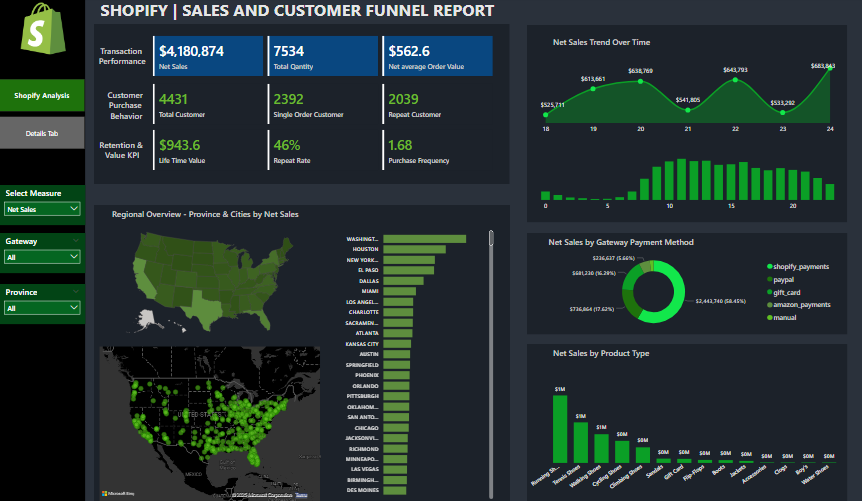

The dashboard page shown, as its layout file describes it:
{"tool":"powerbi","page":{"name":"Shopify Analysis","canvas":[1700,1000],"ordinal":0},"visuals":[{"type":"shape","box":[0,0,170,1000],"z":0},{"type":"textbox","box":[194.2,0,801.9,73.1],"z":1000},{"type":"shape","box":[186.5,55.8,819.2,315.4],"z":2000},{"type":"cardVisual","fields":{"Data":["shopify_sales.Net Sales","shopify_sales.Total Qantity","shopify_sales.Net average Order Value"]},"box":[298.1,73.1,680.8,90.4],"z":3000},{"type":"card","fields":{"Values":["shopify_sales.Transaction Perf"]},"box":[186.5,73.1,111.5,90.4],"z":4000},{"type":"cardVisual","fields":{"Data":["shopify_sales.Total Customer","shopify_sales.Single Order Customer","shopify_sales.Repeat Customer"]},"box":[298.1,167.3,680.8,90.4],"z":5000},{"type":"card","fields":{"Values":["shopify_sales.Customer Purchase Behavior"]},"box":[194.2,167.3,111.5,90.4],"z":6000},{"type":"cardVisual","fields":{"Data":["shopify_sales.Life Time Value","shopify_sales.Repeat Rate","shopify_sales.Purchase Frequency"]},"box":[298.1,257.7,680.8,90.4],"z":7000},{"type":"card","fields":{"Values":["shopify_sales.Retention & Value KPI"]},"box":[186.5,257.7,111.5,90.4],"z":8000},{"type":"shape","box":[186.5,411.3,818.9,584.9],"z":9000},{"type":"shapeMap","fields":{"Value":["shopify_sales.Net Sales"],"Category":["shopify_sales.Billing Address Province"]},"box":[193.8,449.7,444.2,230.3],"z":10000},{"type":"slicer","fields":{"Values":["Select Measure.Select Measure"]},"box":[0,371.1,170,78.6],"z":11000},{"type":"map","fields":{"Category":["shopify_sales.Location"]},"box":[193.8,685.5,444.2,314.4],"z":12000},{"type":"clusteredBarChart","fields":{"Y":["shopify_sales.Net Sales"],"Category":["shopify_sales.CITY"]},"box":[665.4,449.7,312.6,546.6],"z":13000},{"type":"card","fields":{"Values":["shopify_sales.Map Title"]},"box":[193.8,411.3,425.9,38.4],"z":14000},{"type":"shape","box":[1040.1,56.7,630.6,389.4],"z":15000},{"type":"areaChart","fields":{"Y":["shopify_sales.Net Sales"],"Category":["shopify_sales.Invoice Date.Variation.Date Hierarchy.Day"]},"box":[1060.2,118.8,590.4,160.9],"z":16000},{"type":"columnChart","fields":{"Y":["shopify_sales.Net Sales"],"Category":["shopify_sales.Hour"]},"box":[1060.2,285.2,590.4,146.2],"z":17000},{"type":"card","fields":{"Values":["shopify_sales.Trend Title"]},"box":[1060.2,73.1,250.4,38.4],"z":18000},{"type":"shape","box":[1040.1,466.1,630.6,200],"z":19000},{"type":"donutChart","fields":{"Y":["shopify_sales.Net Sales"],"Category":["shopify_sales.Gateway"]},"box":[1060.2,497.2,590.4,168.2],"z":20000},{"type":"card","fields":{"Values":["shopify_sales.Gateway Title"]},"box":[1060.2,466.1,327.2,38.4],"z":21000},{"type":"shape","box":[1040.1,685.5,630.6,310.8],"z":22000},{"type":"columnChart","fields":{"Y":["shopify_sales.Net Sales"],"Category":["shopify_sales.Product Type"]},"box":[1040.1,723.9,630.6,257.7],"z":23000},{"type":"card","fields":{"Values":["shopify_sales.Product Title"]},"box":[1045.6,685.5,279.7,38.4],"z":24000},{"type":"image","box":[12.8,7.3,146.2,111.5],"z":25000},{"type":"slicer","fields":{"Values":["shopify_sales.Gateway"]},"box":[0,466.1,170,78.6],"z":26000},{"type":"slicer","fields":{"Values":["shopify_sales.Billing Address Province"]},"box":[0,566.7,170,78.6],"z":27000},{"type":"pageNavigator","box":[0,163.4,169.3,139.8],"z":27001}]}

Visuals, with their boxes on the page's 1700x1000 design canvas (x1, y1, x2, y2). These are canvas units, not pixel positions in the 862x501 screenshot, which may show the page scaled, cropped or inside an application window:
shape: detection(0, 0, 170, 1000)
textbox: detection(194, 0, 996, 73)
shape: detection(186, 56, 1006, 371)
cardVisual - shopify_sales.Net Sales x shopify_sales.Total Qantity: detection(298, 73, 979, 164)
card - shopify_sales.Transaction Perf: detection(186, 73, 298, 164)
cardVisual - shopify_sales.Total Customer x shopify_sales.Single Order Customer: detection(298, 167, 979, 258)
card - shopify_sales.Customer Purchase Behavior: detection(194, 167, 306, 258)
cardVisual - shopify_sales.Life Time Value x shopify_sales.Repeat Rate: detection(298, 258, 979, 348)
card - shopify_sales.Retention & Value KPI: detection(186, 258, 298, 348)
shape: detection(186, 411, 1005, 996)
shapeMap - shopify_sales.Net Sales x shopify_sales.Billing Address Province: detection(194, 450, 638, 680)
slicer - Select Measure.Select Measure: detection(0, 371, 170, 450)
map - shopify_sales.Location: detection(194, 686, 638, 1000)
clusteredBarChart - shopify_sales.Net Sales x shopify_sales.CITY: detection(665, 450, 978, 996)
card - shopify_sales.Map Title: detection(194, 411, 620, 450)
shape: detection(1040, 57, 1671, 446)
areaChart - shopify_sales.Net Sales x shopify_sales.Invoice Date.Variation.Date Hierarchy.Day: detection(1060, 119, 1651, 280)
columnChart - shopify_sales.Net Sales x shopify_sales.Hour: detection(1060, 285, 1651, 431)
card - shopify_sales.Trend Title: detection(1060, 73, 1311, 112)
shape: detection(1040, 466, 1671, 666)
donutChart - shopify_sales.Net Sales x shopify_sales.Gateway: detection(1060, 497, 1651, 665)
card - shopify_sales.Gateway Title: detection(1060, 466, 1387, 504)
shape: detection(1040, 686, 1671, 996)
columnChart - shopify_sales.Net Sales x shopify_sales.Product Type: detection(1040, 724, 1671, 982)
card - shopify_sales.Product Title: detection(1046, 686, 1325, 724)
image: detection(13, 7, 159, 119)
slicer - shopify_sales.Gateway: detection(0, 466, 170, 545)
slicer - shopify_sales.Billing Address Province: detection(0, 567, 170, 645)
pageNavigator: detection(0, 163, 169, 303)
